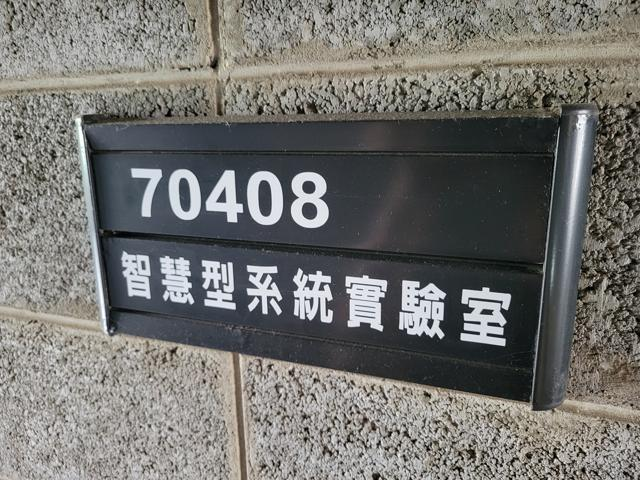doorplate: (66, 96, 606, 423)
